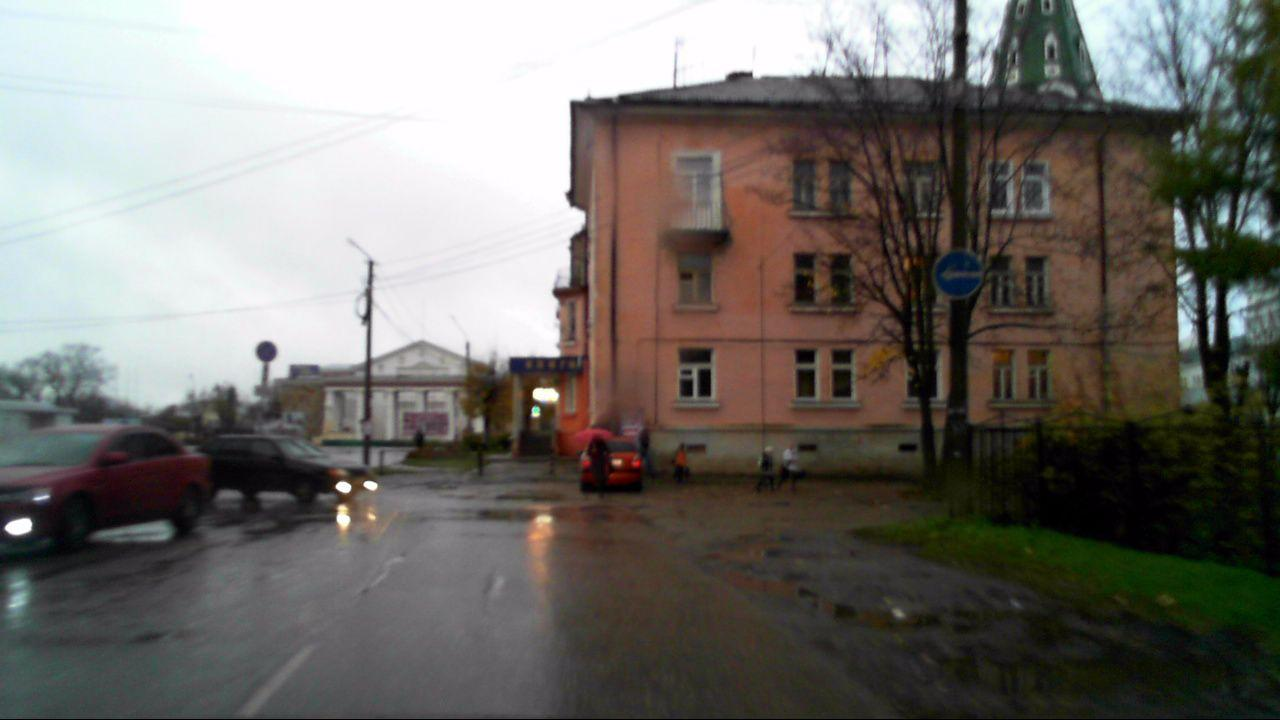3_27: (257, 341, 277, 361)
4_2_2: (933, 248, 983, 300)
